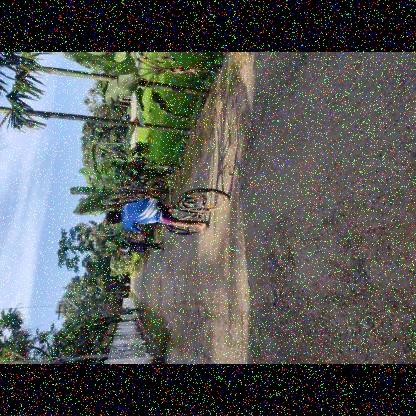Bicycle: (131, 170, 234, 254)
